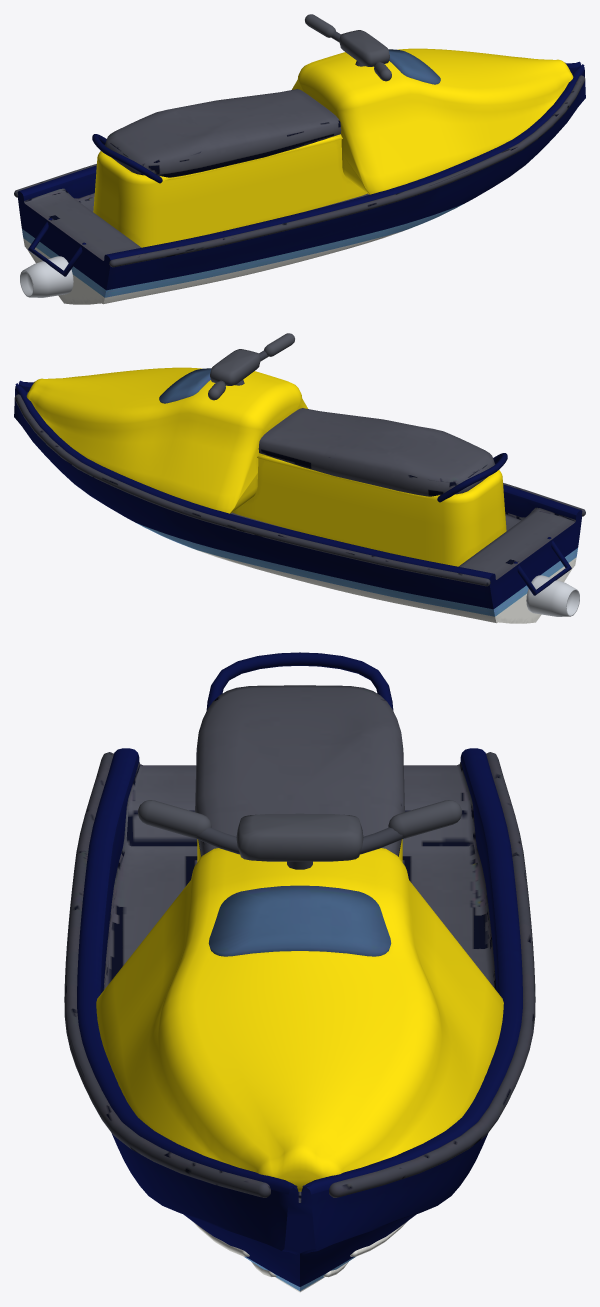
File: sea-doo-wake-pro-230-2024.glb
The picture shows the model from 3 angles, top to bottom: view 1: azimuth 30°, elevation 25°; view 2: azimuth 150°, elevation 25°; view 3: azimuth 270°, elevation 25°; orthographic projection. The views are drawn at different scales.
Parts seen in each view (by area): view 1: jet-ski_body, jet-ski_handlebar, jet-ski_jet_nozzle; view 2: jet-ski_body, jet-ski_handlebar, jet-ski_jet_nozzle; view 3: jet-ski_body, jet-ski_handlebar.
Part boxes in pixels (x1,y1,x2,y2): jet-ski_body: (14,48,585,304); jet-ski_handlebar: (305,14,391,81); jet-ski_jet_nozzle: (20,256,73,297); jet-ski_body: (14,367,585,623); jet-ski_handlebar: (208,333,294,400); jet-ski_jet_nozzle: (526,575,579,616); jet-ski_body: (64,652,535,1292); jet-ski_handlebar: (138,800,461,869).
Bounding box in the file's own units: 3.68 × 1.25 × 1.35.
4 materials, 1 textured.
